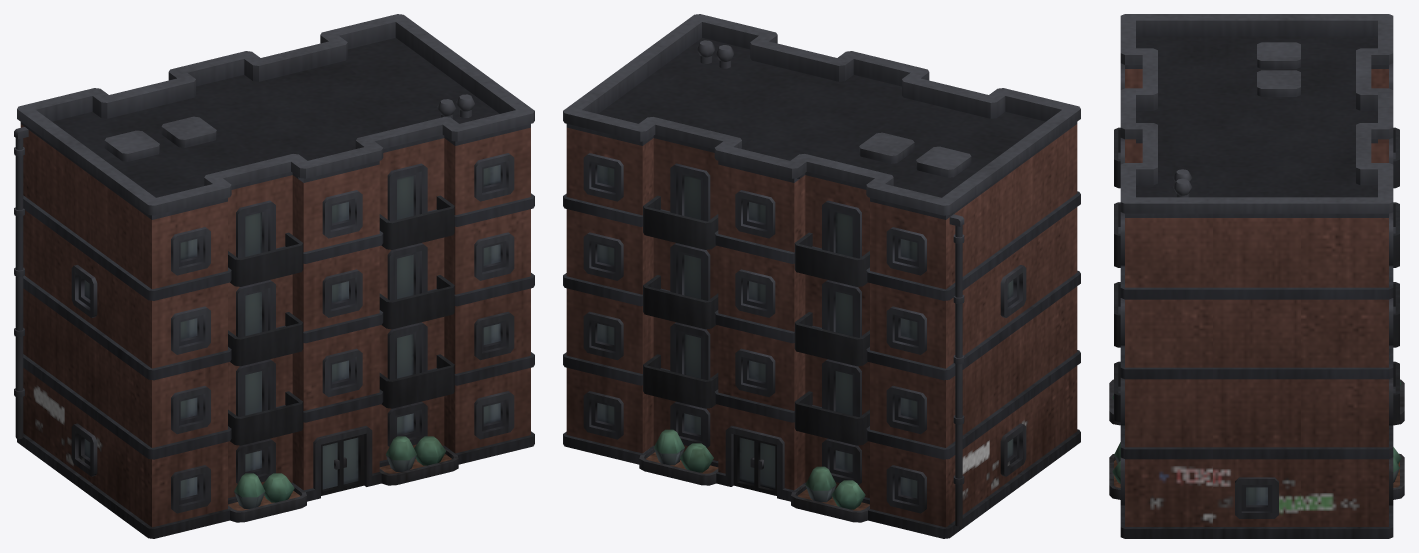
File: building-j-brown-scuffed.glb
The picture shows the model from 3 angles, left to right: view 1: azimuth 30°, elevation 25°; view 2: azimuth 150°, elevation 25°; view 3: azimuth 270°, elevation 25°; orthographic projection.
Parts seen in each view (by area): view 1: building-j; view 2: building-j; view 3: building-j.
Part boxes in pixels (box(x1,y1,x2,y2)): building-j: box(14, 14, 534, 538); building-j: box(563, 14, 1080, 538); building-j: box(1109, 14, 1404, 538).
Bounding box in the file's own units: 2.08 × 1.69 × 1.34.
1 material, 1 textured.
